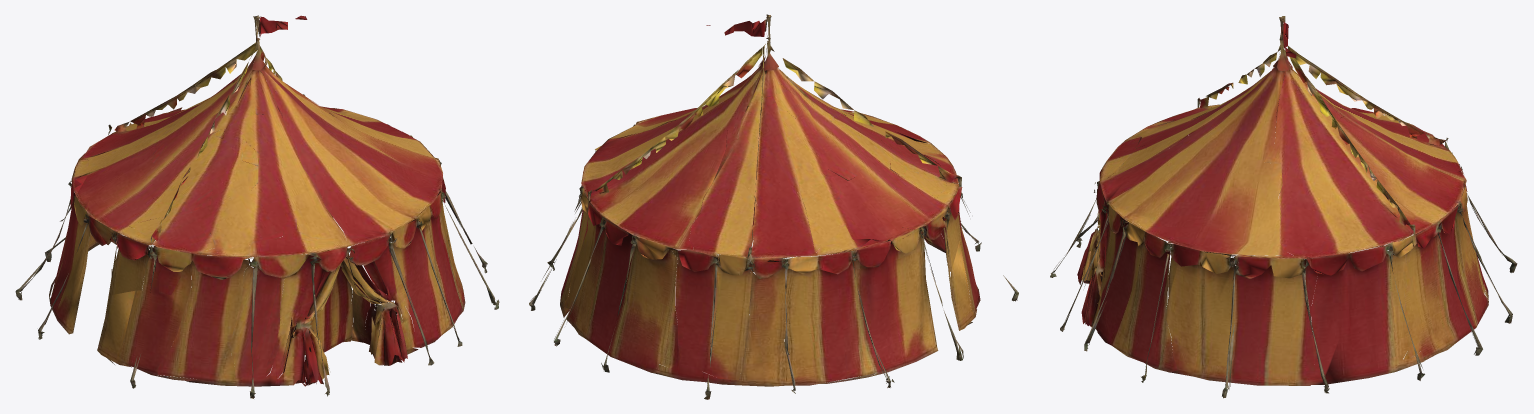
The model's file is jahrmarkt_zelt.glb.
The picture shows the model from 3 angles, left to right: view 1: azimuth 30°, elevation 25°; view 2: azimuth 150°, elevation 25°; view 3: azimuth 270°, elevation 25°; orthographic projection.
Parts seen in each view (by area): view 1: Prop; view 2: Prop; view 3: Prop.
Boxes of the visible parts, left/top/right/bottom form: Prop: left=15, top=15, right=499, bottom=398; Prop: left=529, top=14, right=1018, bottom=399; Prop: left=1050, top=16, right=1517, bottom=398.
Bounding box in the file's own units: 1.45 × 1 × 1.45.
1 material, 1 textured.
